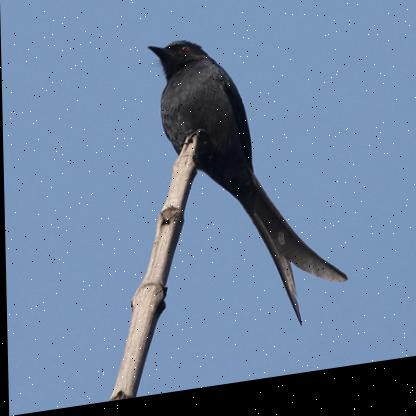Burung: (148, 23, 346, 352)
